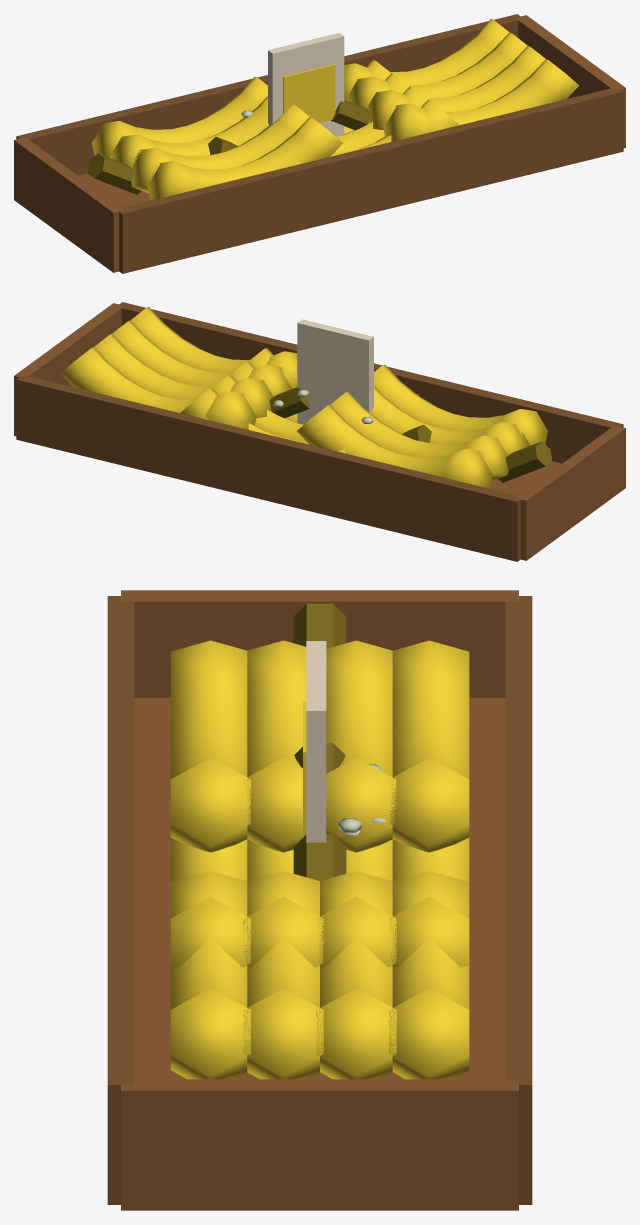
The model's file is Fruit_Banana.fbx.
The picture shows the model from 3 angles, top to bottom: view 1: azimuth 30°, elevation 25°; view 2: azimuth 150°, elevation 25°; view 3: azimuth 270°, elevation 25°; orthographic projection. The views are drawn at different scales.
Visible parts, largest first — view 1: Fruit_Banana__Stack, Fruit_Banana__Seed, Fruit_Banana; view 2: Fruit_Banana__Stack, Fruit_Banana__Seed, Fruit_Banana; view 3: Fruit_Banana__Stack, Fruit_Banana, Fruit_Banana__Seed.
Boxes of the visible parts, <box> form: Fruit_Banana__Stack: <box>14,14,625,273</box>; Fruit_Banana__Seed: <box>268,32,344,136</box>; Fruit_Banana: <box>208,60,459,165</box>; Fruit_Banana__Stack: <box>14,302,625,561</box>; Fruit_Banana__Seed: <box>297,319,373,424</box>; Fruit_Banana: <box>180,348,431,453</box>; Fruit_Banana__Stack: <box>107,590,532,1210</box>; Fruit_Banana: <box>170,743,469,967</box>; Fruit_Banana__Seed: <box>303,641,326,842</box>.
Bounding box in the file's own units: 0.3575 × 0.09 × 0.1282.
